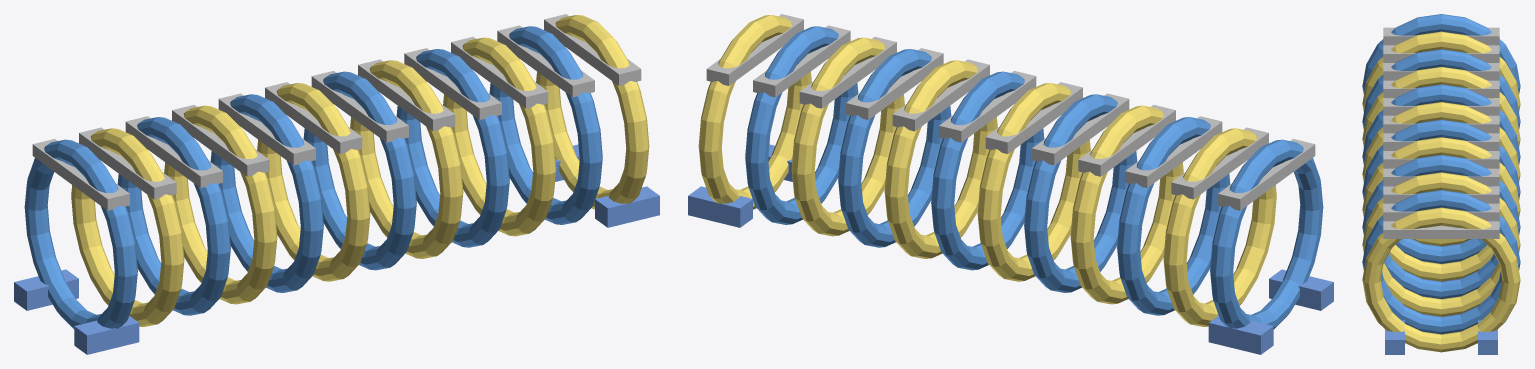
Rendered from dog_tunnel_2.fbx.
3 views of the same model, side by side, from view 1: azimuth 30°, elevation 25°; view 2: azimuth 150°, elevation 25°; view 3: azimuth 270°, elevation 25° (orthographic). The views are drawn at different scales.
Parts seen in each view (by area): view 1: tunnel_segment_1, tunnel_segment_2, tunnel_segment_6, tunnel_segment_10, tunnel_segment_8, tunnel_segment_4, tunnel_segment_5, tunnel_segment_3, tunnel_segment_11, tunnel_segment_7, tunnel_segment_9, tunnel_segment_12 (+15 smaller); view 2: tunnel_segment_1, tunnel_segment_2, tunnel_segment_6, tunnel_segment_10, tunnel_segment_8, tunnel_segment_4, tunnel_segment_5, tunnel_segment_3, tunnel_segment_11, tunnel_segment_7, tunnel_segment_9, tunnel_segment_12 (+15 smaller); view 3: tunnel_segment_12, tunnel_segment_11, tunnel_segment_10, tunnel_segment_9, tunnel_segment_8, tunnel_segment_7, tunnel_segment_6, tunnel_segment_4, tunnel_segment_1, tunnel_segment_2, tunnel_segment_3, tunnel_segment_5 (+14 smaller).
Boxes of the visible parts, bbox=[...] form: tunnel_segment_1: bbox=[24, 139, 137, 329]; tunnel_segment_2: bbox=[71, 128, 184, 326]; tunnel_segment_6: bbox=[257, 83, 370, 281]; tunnel_segment_10: bbox=[443, 37, 556, 236]; tunnel_segment_8: bbox=[350, 60, 463, 258]; tunnel_segment_4: bbox=[164, 105, 277, 304]; tunnel_segment_5: bbox=[210, 94, 323, 292]; tunnel_segment_3: bbox=[117, 117, 230, 315]; tunnel_segment_11: bbox=[489, 26, 602, 224]; tunnel_segment_7: bbox=[303, 71, 416, 270]; tunnel_segment_9: bbox=[396, 49, 509, 247]; tunnel_segment_12: bbox=[536, 15, 649, 209]; tunnel_segment_1: bbox=[1210, 139, 1323, 329]; tunnel_segment_2: bbox=[1163, 128, 1276, 326]; tunnel_segment_6: bbox=[977, 83, 1090, 281]; tunnel_segment_10: bbox=[791, 37, 904, 236]; tunnel_segment_8: bbox=[884, 60, 997, 258]; tunnel_segment_4: bbox=[1070, 105, 1183, 304]; tunnel_segment_5: bbox=[1024, 94, 1137, 292]; tunnel_segment_3: bbox=[1117, 117, 1230, 315]; tunnel_segment_11: bbox=[745, 26, 858, 224]; tunnel_segment_7: bbox=[931, 71, 1044, 270]; tunnel_segment_9: bbox=[838, 49, 951, 247]; tunnel_segment_12: bbox=[698, 15, 811, 209]; tunnel_segment_12: bbox=[1362, 207, 1520, 352]; tunnel_segment_11: bbox=[1362, 190, 1520, 334]; tunnel_segment_10: bbox=[1362, 172, 1520, 316]; tunnel_segment_9: bbox=[1362, 155, 1520, 298]; tunnel_segment_8: bbox=[1362, 137, 1520, 281]; tunnel_segment_7: bbox=[1362, 119, 1520, 263]; tunnel_segment_6: bbox=[1362, 102, 1520, 246]; tunnel_segment_4: bbox=[1362, 67, 1520, 147]; tunnel_segment_1: bbox=[1362, 14, 1520, 94]; tunnel_segment_2: bbox=[1362, 31, 1520, 111]; tunnel_segment_3: bbox=[1362, 49, 1520, 129]; tunnel_segment_5: bbox=[1362, 84, 1520, 164].
Bounding box in the file's own units: 308 × 95 × 95.
